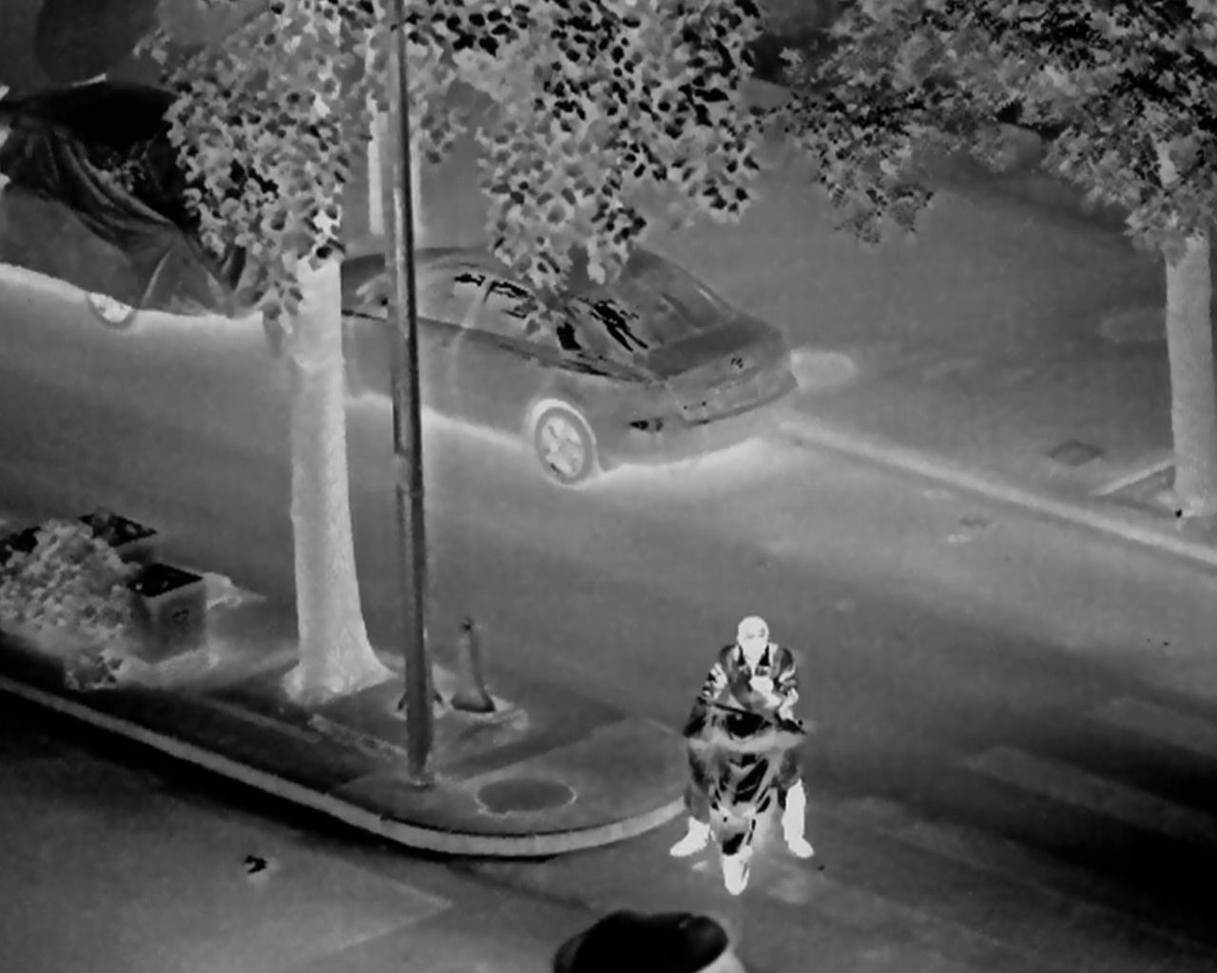person: (676, 607, 831, 869)
